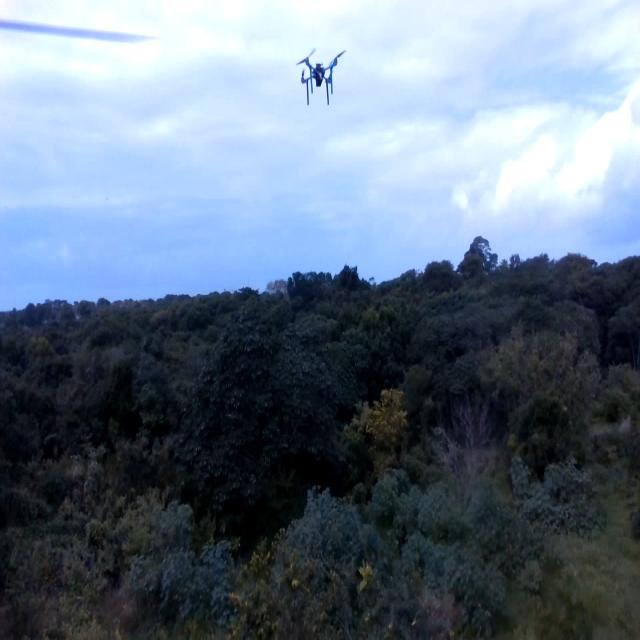-uav-: (292, 37, 346, 123)
